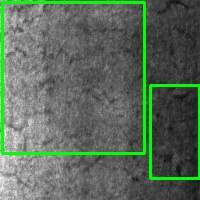crazing: (2, 2, 144, 153), (150, 85, 199, 178)
